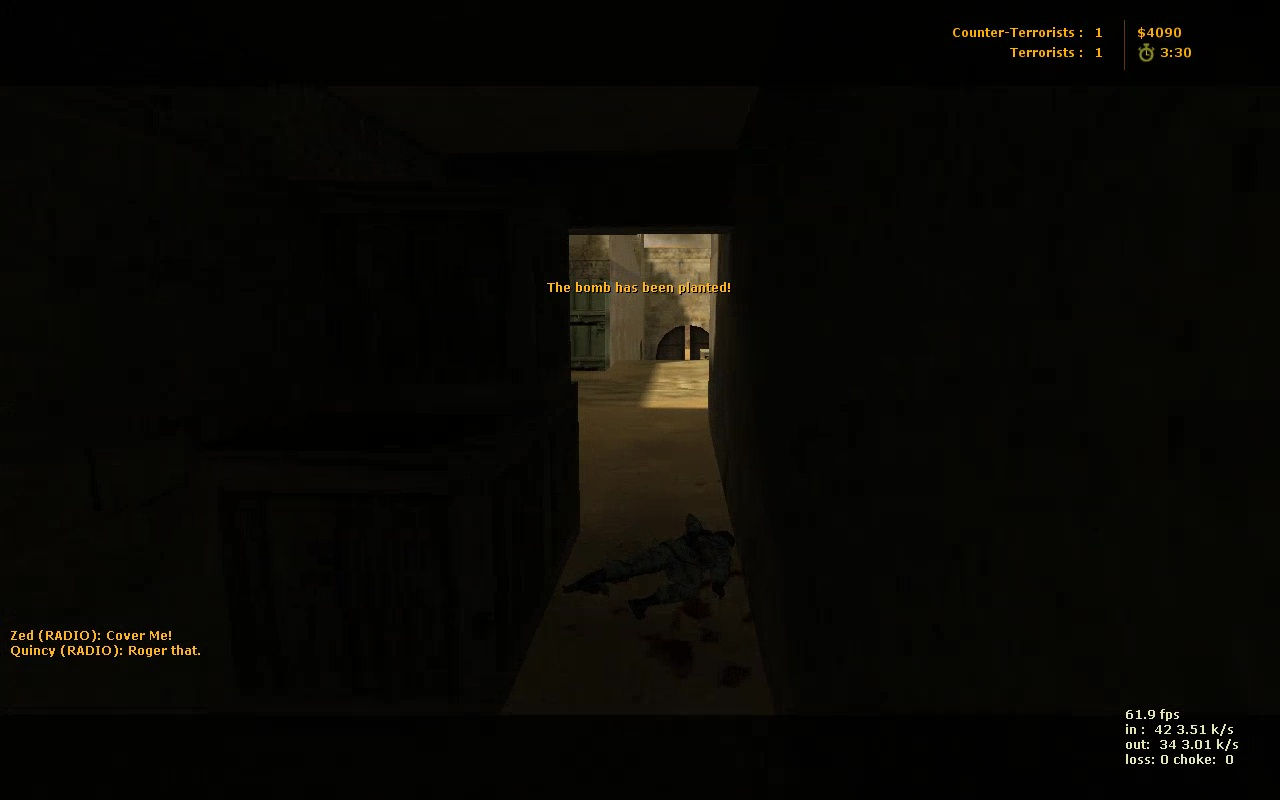dead: (563, 513, 749, 610)
